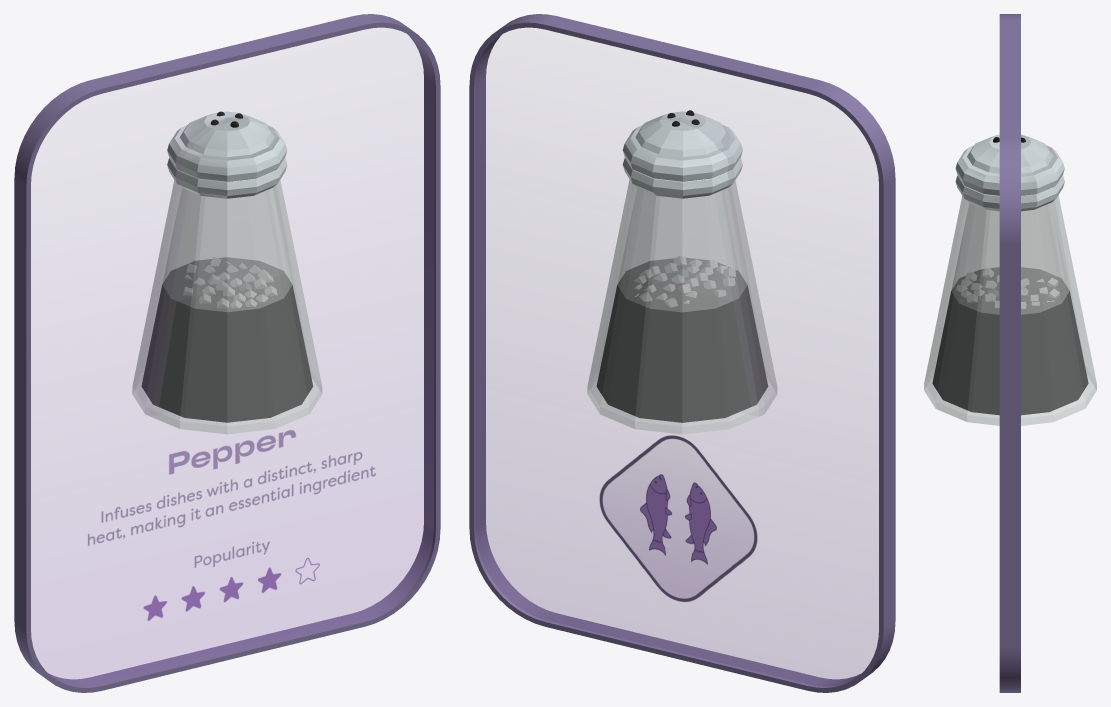
The model's file is pepper.glb.
3 renders of one model, left to right at view 1: azimuth 30°, elevation 25°; view 2: azimuth 150°, elevation 25°; view 3: azimuth 270°, elevation 25°, orthographic. The views are drawn at different scales.
Parts seen in each view (by area): view 1: Bhai_Card.tex.021, Bhai_Card.out.021; view 2: Bhai_Card.tex.021, Bhai_Card.out.021; view 3: Bhai_Card.tex.021, Bhai_Card.out.021.
Part boxes in pixels (bbox=[...]): Bhai_Card.tex.021: bbox=[31, 111, 433, 686]; Bhai_Card.out.021: bbox=[14, 14, 440, 692]; Bhai_Card.tex.021: bbox=[476, 110, 878, 686]; Bhai_Card.out.021: bbox=[469, 14, 895, 692]; Bhai_Card.tex.021: bbox=[924, 134, 1096, 425]; Bhai_Card.out.021: bbox=[999, 14, 1020, 692].
Size of the model in its own units: 1.81 by 2.51 by 0.7178.
10 materials, 2 textured.
